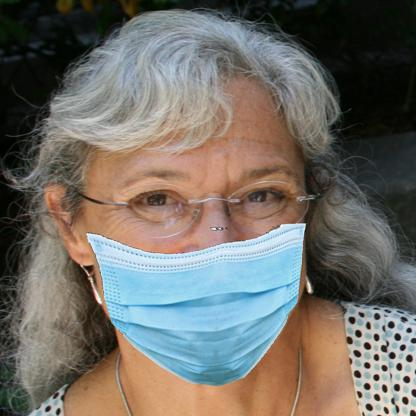mask: (81, 223, 310, 386)
